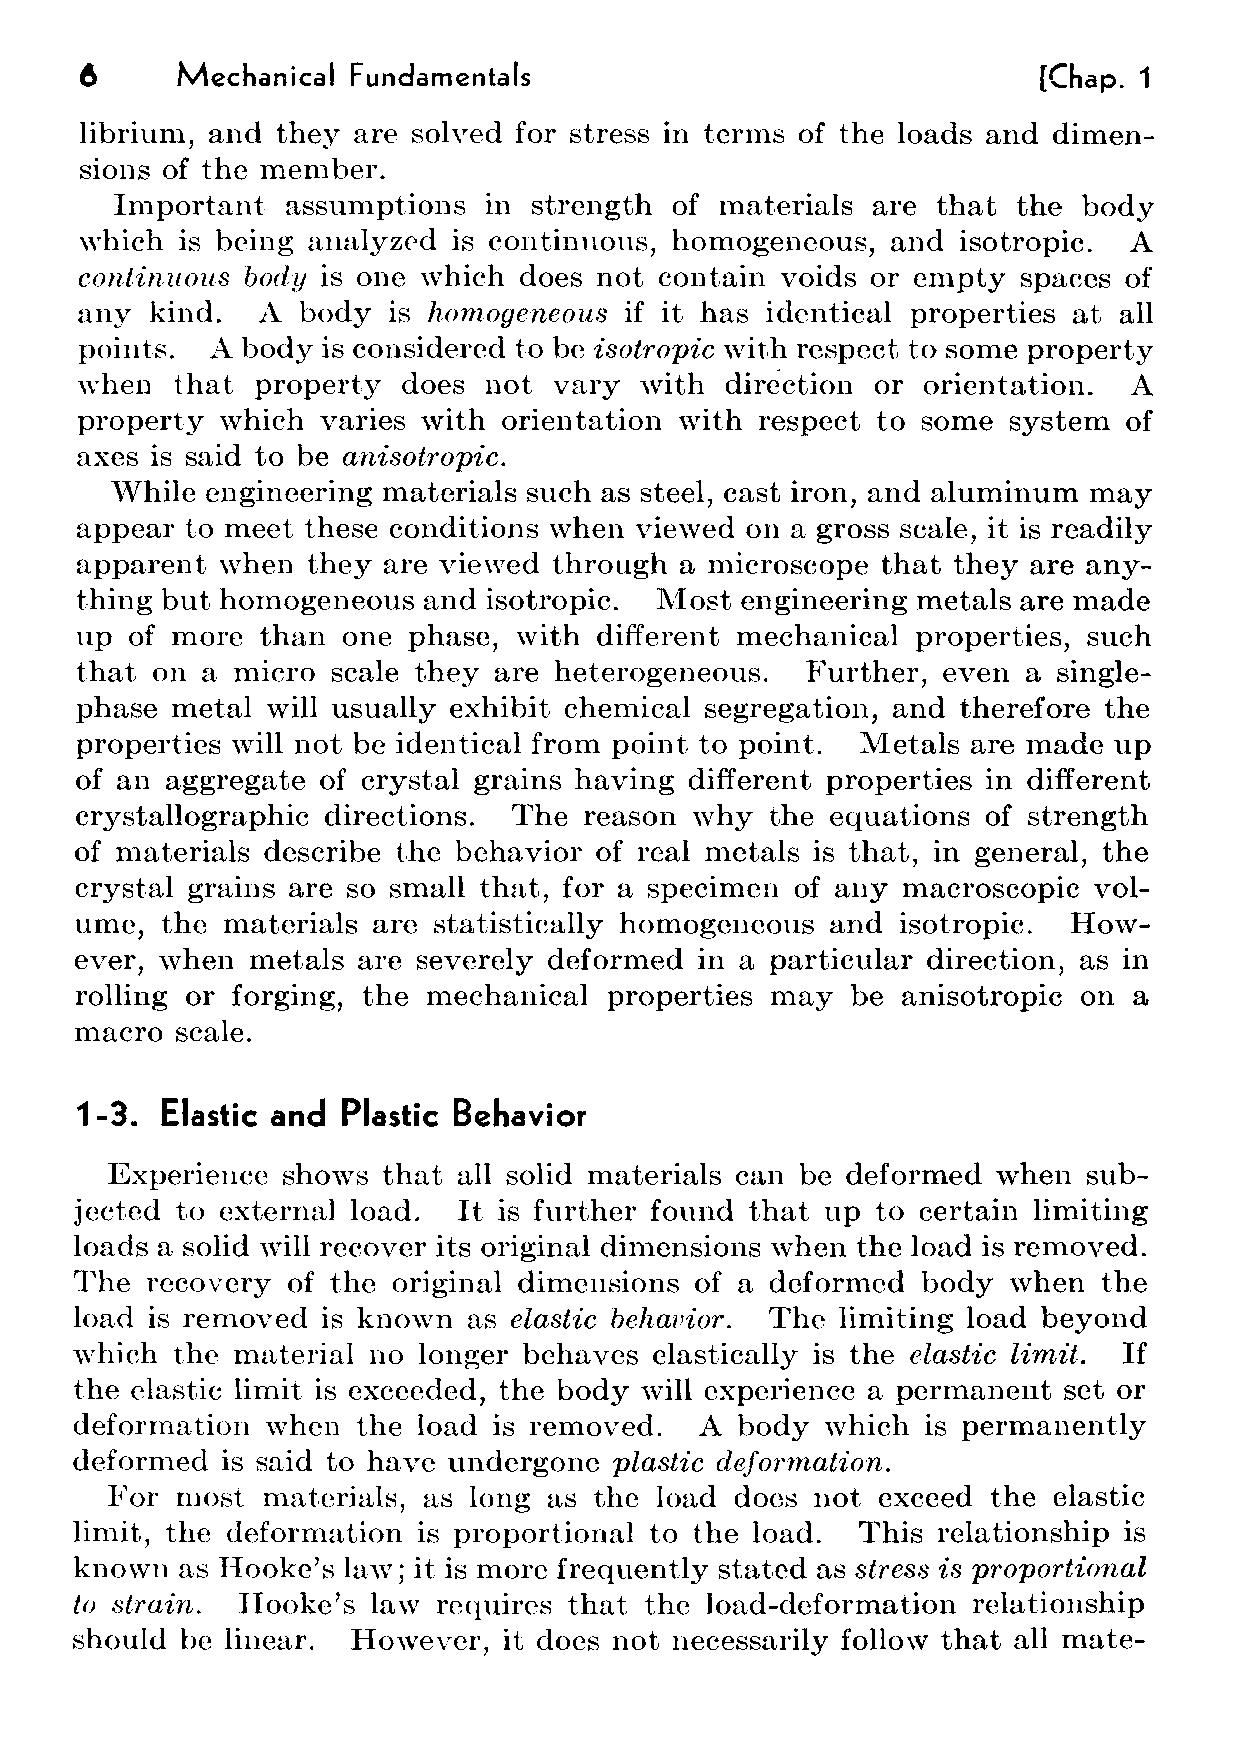chapter: (67, 1092, 588, 1135)
content: (60, 114, 1162, 1049), (67, 1151, 1155, 1653)
content_chapter: (169, 52, 535, 89)
content_pagenumber: (70, 55, 101, 89)
